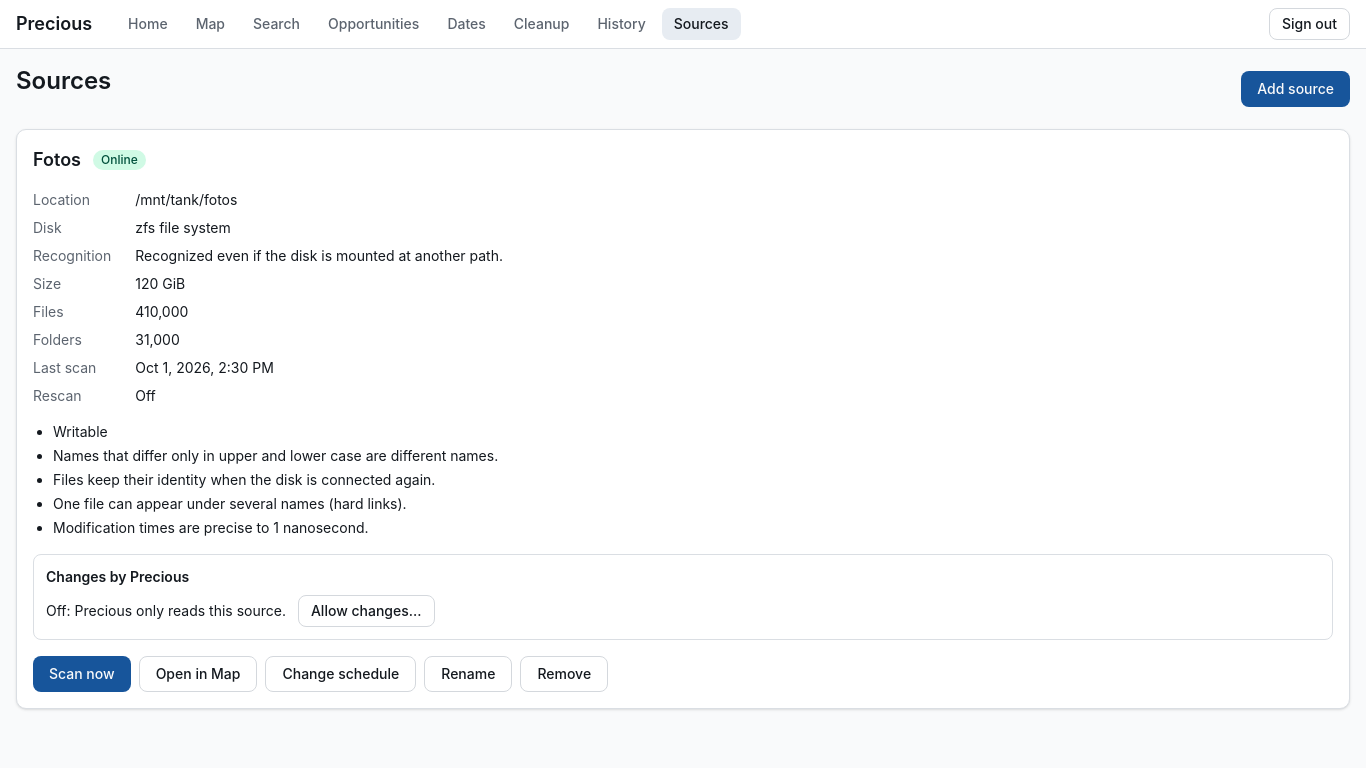
Test: Changes by Precious on the Sources screen › R3.7: cancelling the confirmation sends no command and leaves changes off
Check: the text "Off: Precious only reads this source." is shown, box [46, 601, 286, 621]
Click the button "Allow changes…" at [366, 611], box [298, 595, 434, 627]
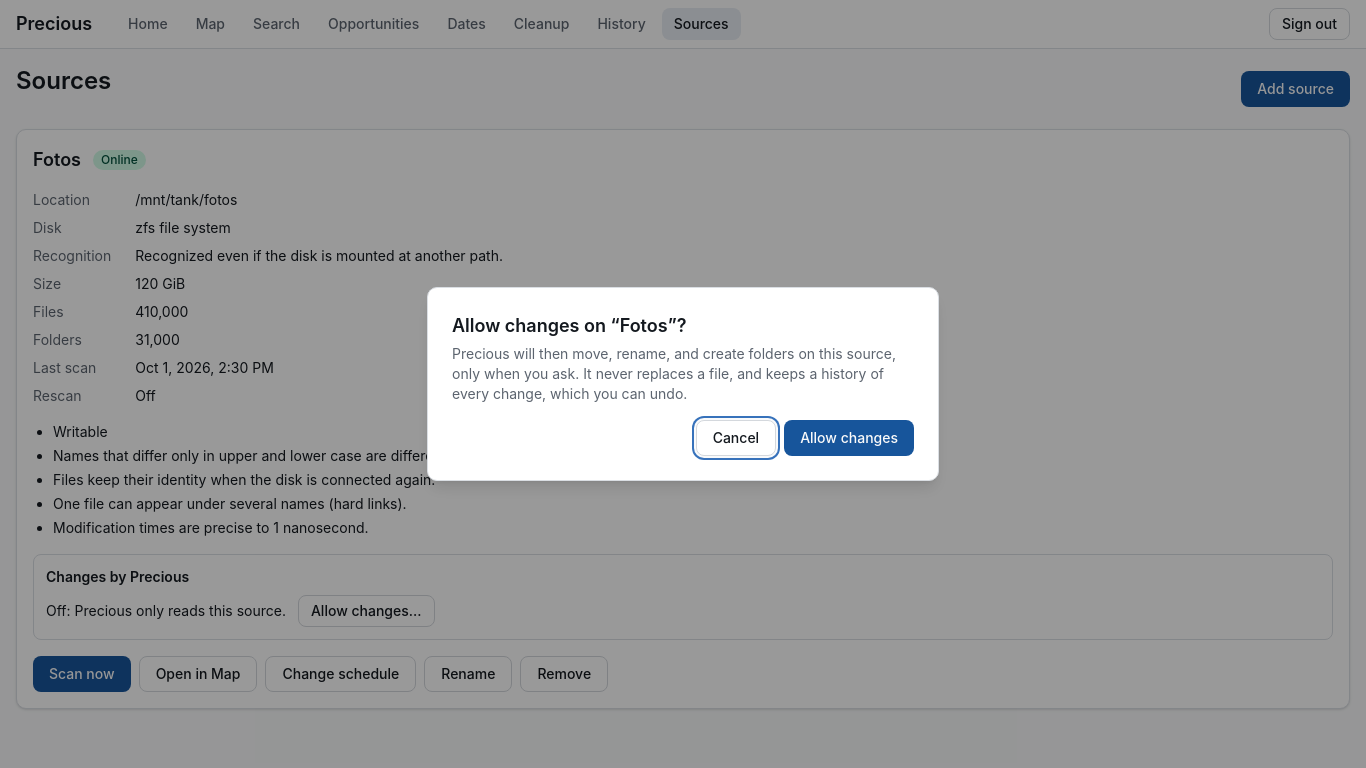
Check: the text "Precious will then move, rename, and create folders on this source, only when you ask. It never replaces a file, and kee" is shown, box [452, 345, 896, 402]
Click the button "Cancel" at [736, 438], box [696, 420, 776, 456]
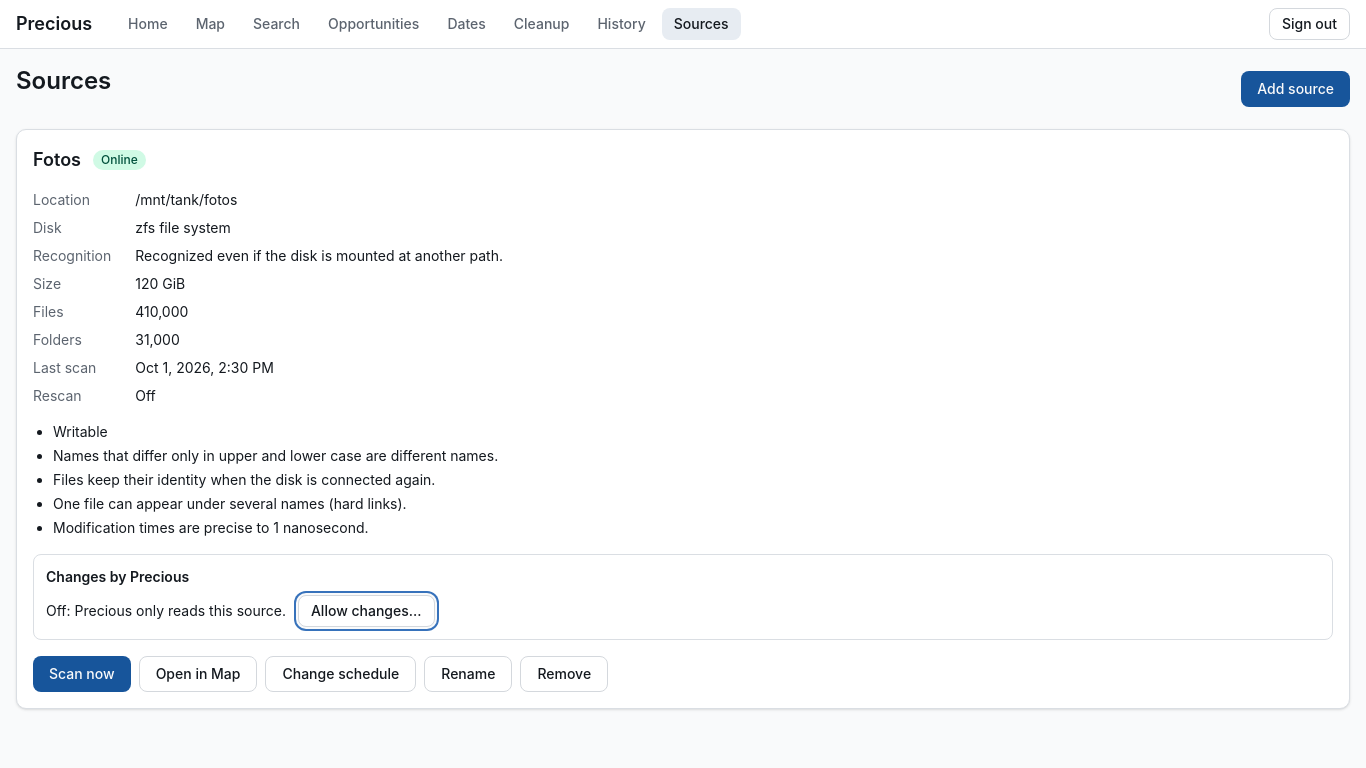
Check: the text "Off: Precious only reads this source." is shown, box [46, 601, 286, 621]
Check: the dialog is gone
